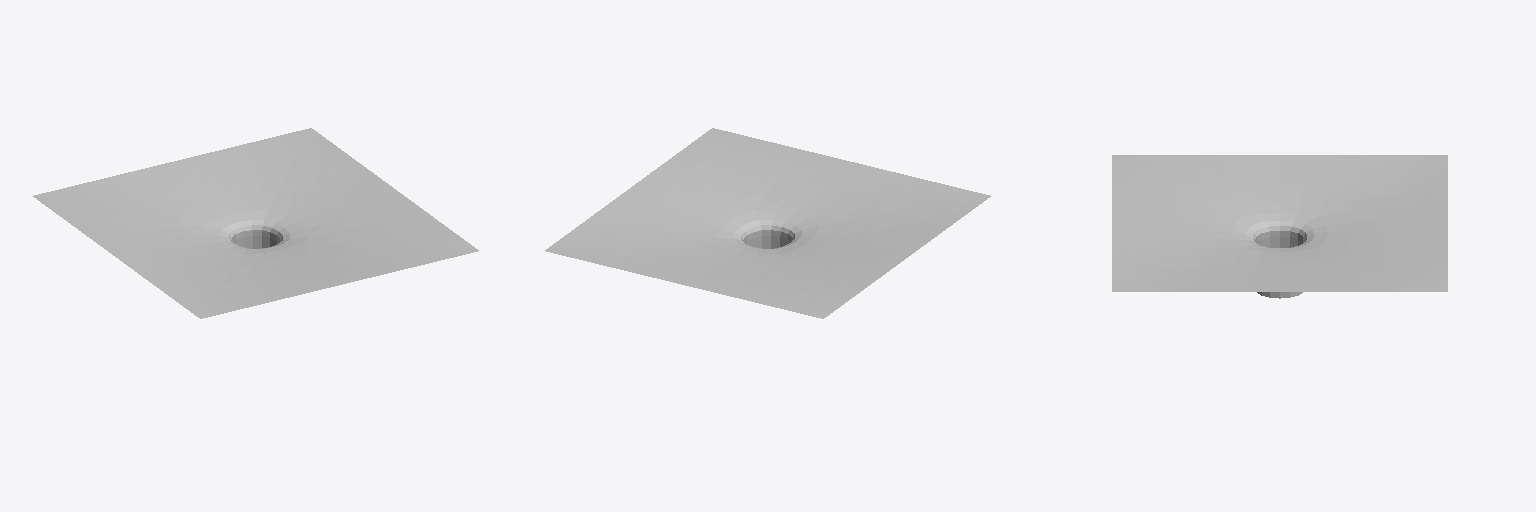
File: SinkHole.obj
3 renders of one model, left to right at view 1: azimuth 30°, elevation 25°; view 2: azimuth 150°, elevation 25°; view 3: azimuth 270°, elevation 25°, orthographic.
Parts seen in each view (by area): view 1: Sink_Hole_Plane.001; view 2: Sink_Hole_Plane.001; view 3: Sink_Hole_Plane.001.
Boxes of the visible parts, x1,y1,x2,y2 form: Sink_Hole_Plane.001: [33, 128, 478, 318]; Sink_Hole_Plane.001: [545, 128, 990, 318]; Sink_Hole_Plane.001: [1112, 155, 1447, 298].
Size of the model in its own units: 4.78 by 1.06 by 4.99.